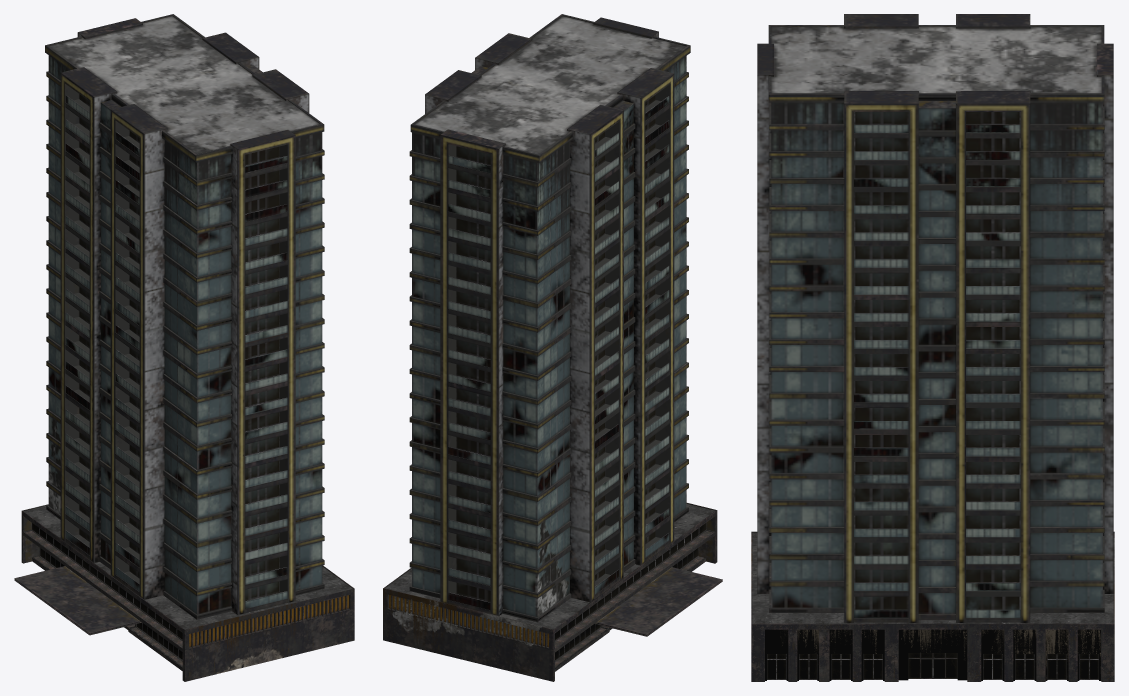
Rendered from luxury_hotel.fbx.
3 views of the same model, side by side, from view 1: azimuth 30°, elevation 25°; view 2: azimuth 150°, elevation 25°; view 3: azimuth 270°, elevation 25° (orthographic). The views are drawn at different scales.
Parts seen in each view (by area): view 1: luxury_hotel; view 2: luxury_hotel; view 3: luxury_hotel.
Boxes of the visible parts, left/top/right/bottom form: luxury_hotel: left=14, top=14, right=354, bottom=681; luxury_hotel: left=383, top=14, right=722, bottom=681; luxury_hotel: left=751, top=14, right=1114, bottom=681.
Bounding box in the file's own units: 38.26 × 85.85 × 49.08.
